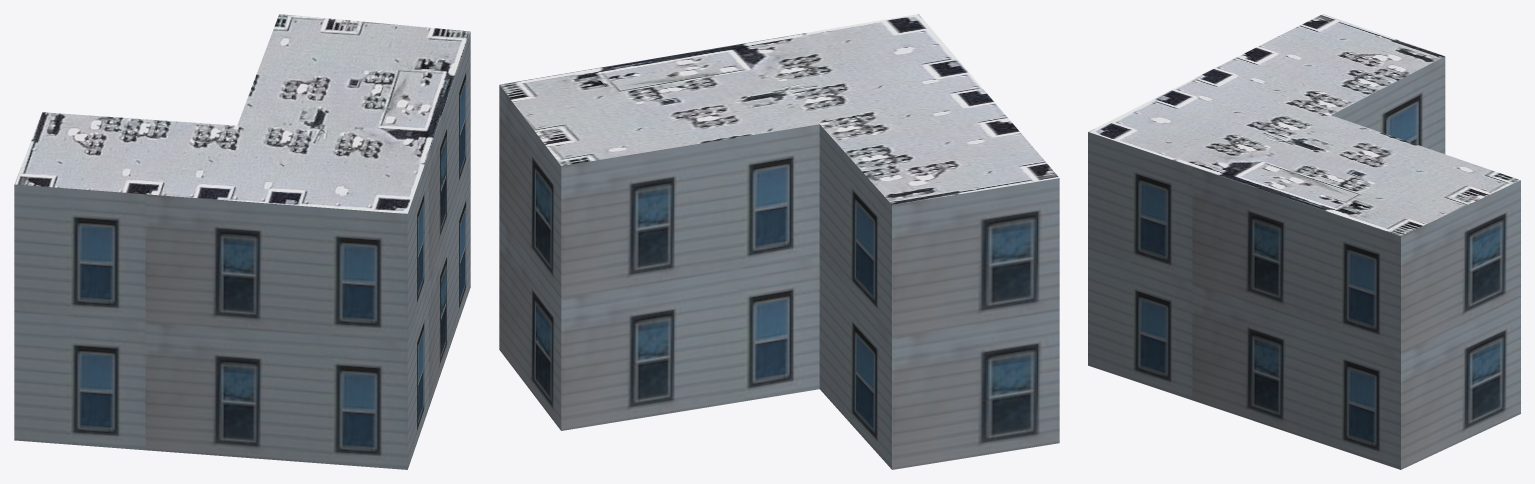
Rendered from ResTex__2867.fbx.
3 renders of one model, left to right at view 1: azimuth 30°, elevation 25°; view 2: azimuth 150°, elevation 25°; view 3: azimuth 270°, elevation 25°, orthographic. The views are drawn at different scales.
Visible parts, largest first — view 1: CityEngineMaterial_18_m, CityEngineMaterial_8_m; view 2: CityEngineMaterial_18_m, CityEngineMaterial_8_m; view 3: CityEngineMaterial_18_m, CityEngineMaterial_8_m.
Boxes of the visible parts, box(x1,y1,x2,y2) form: CityEngineMaterial_18_m: box(14, 32, 470, 469); CityEngineMaterial_8_m: box(14, 14, 470, 213); CityEngineMaterial_18_m: box(499, 85, 1059, 469); CityEngineMaterial_8_m: box(499, 14, 1059, 204); CityEngineMaterial_18_m: box(1088, 56, 1520, 469); CityEngineMaterial_8_m: box(1088, 14, 1520, 235).
Bounding box in the file's own units: 12.24 × 6 × 10.07.
Materials: 2 (2 with a texture image).
